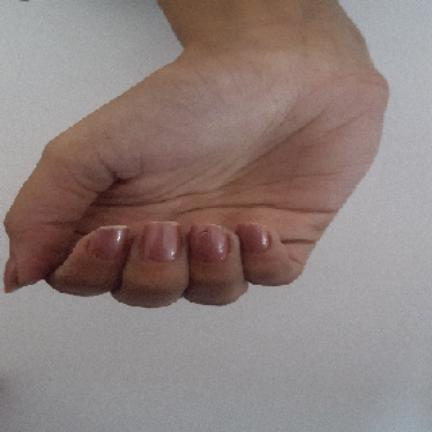Nail: (142, 221, 182, 262), (188, 224, 230, 262), (92, 225, 127, 259), (236, 223, 269, 252), (4, 256, 21, 293)
